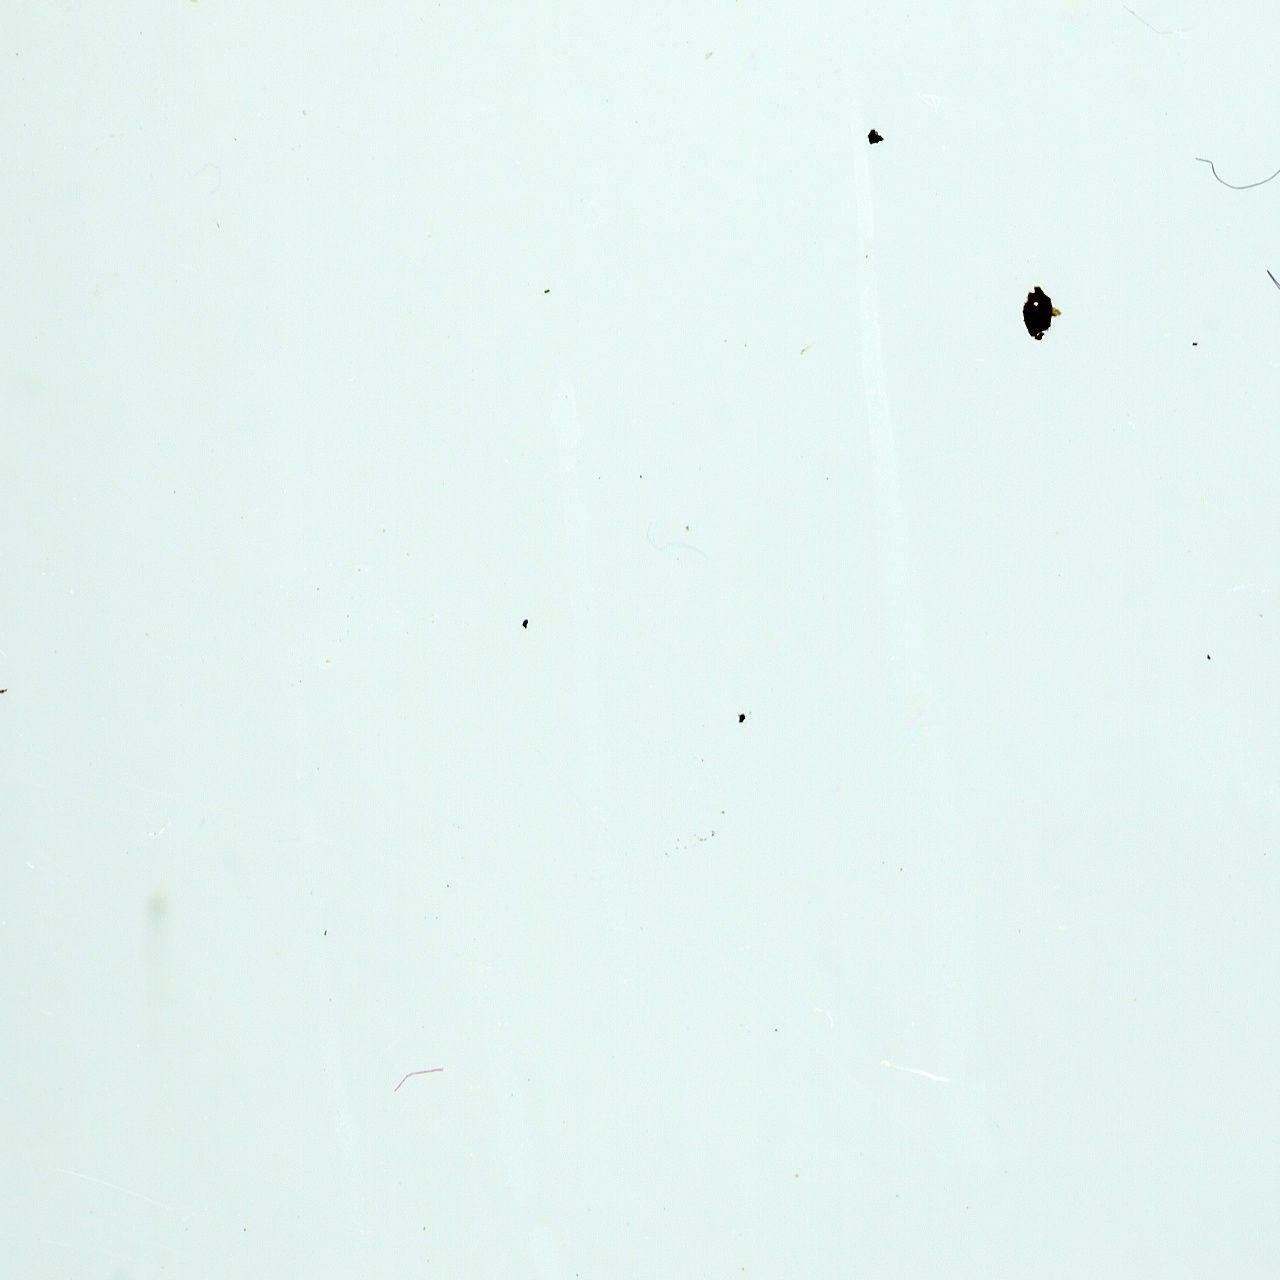arthropod: (1259, 954, 1280, 1099)
